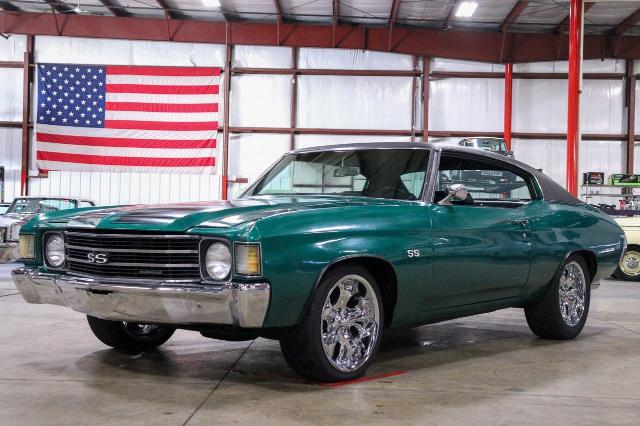chevelle-1972: (12, 143, 626, 382)
